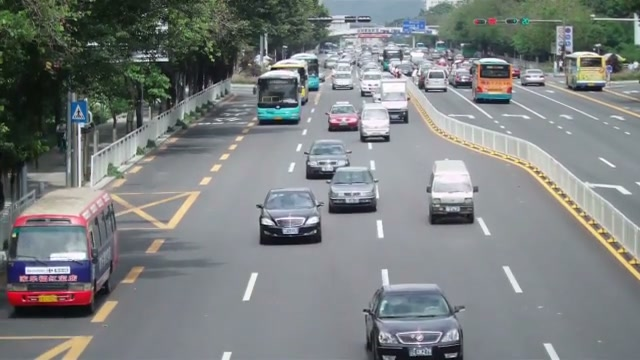bus: (4, 185, 119, 313), (256, 70, 304, 125), (471, 57, 513, 103), (269, 58, 309, 102), (564, 51, 606, 91), (291, 53, 320, 90)
car: (362, 283, 466, 359), (255, 187, 323, 245), (425, 158, 477, 224), (327, 165, 379, 213), (304, 140, 351, 179), (359, 105, 391, 142), (326, 102, 360, 132), (360, 71, 384, 97), (423, 69, 448, 93), (331, 68, 354, 90), (519, 68, 545, 86), (451, 66, 473, 87)
